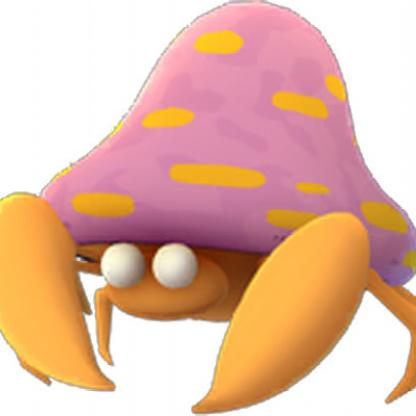Parasect: (1, 1, 416, 416)
